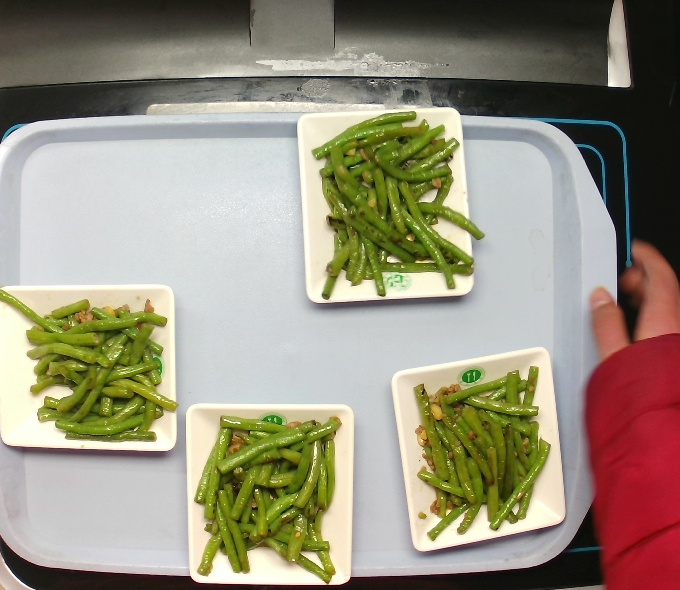wcq-RouMoJiangDou: (0, 279, 188, 462), (310, 109, 478, 309), (188, 399, 351, 589), (401, 352, 556, 548)
